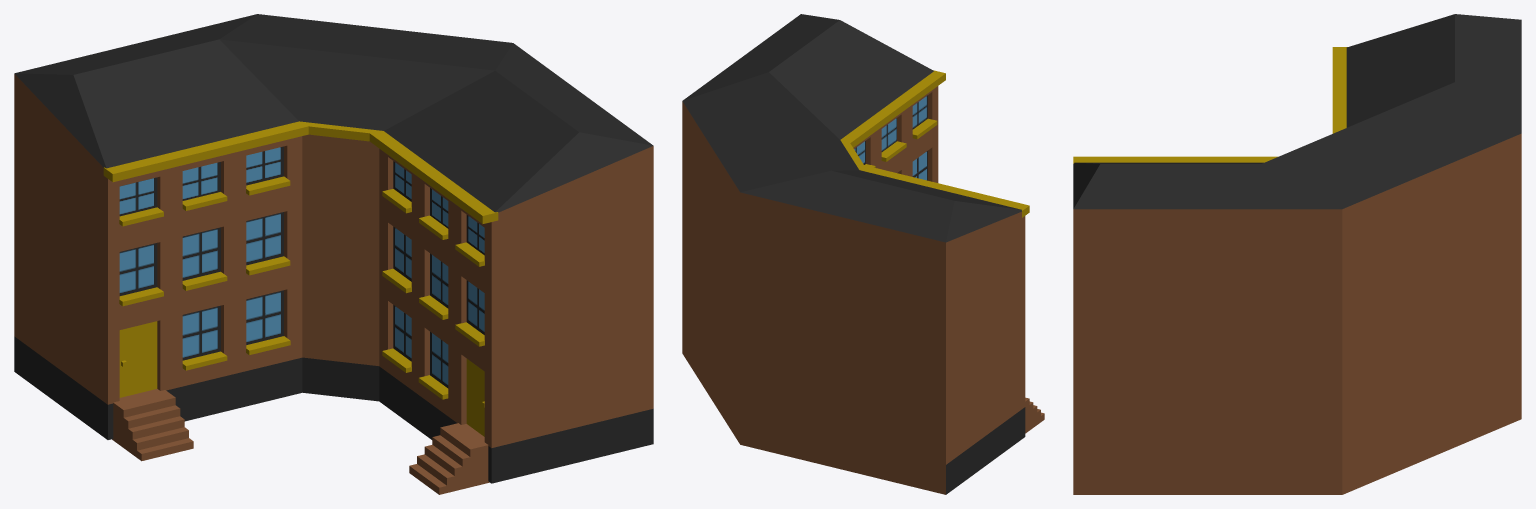
Rendered from JazzAngle3.obj.
3 views of the same model, side by side, from view 1: azimuth 30°, elevation 25°; view 2: azimuth 150°, elevation 25°; view 3: azimuth 270°, elevation 25° (orthographic). The views are drawn at different scales.
Visible parts, largest first — view 1: RogZwykly.002; view 2: RogZwykly.002; view 3: RogZwykly.002.
Part boxes in pixels (x1,y1,x2,y2): RogZwykly.002: [14, 14, 653, 494]; RogZwykly.002: [682, 14, 1044, 494]; RogZwykly.002: [1073, 14, 1521, 494].
Bounding box in the file's own units: 12.51 × 9.37 × 12.51.
